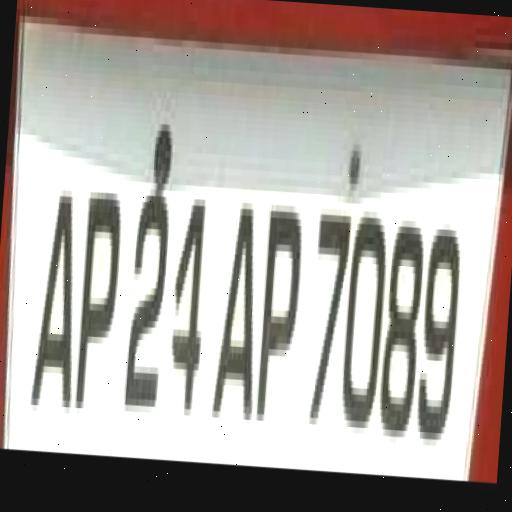number plate: (9, 57, 512, 510)
